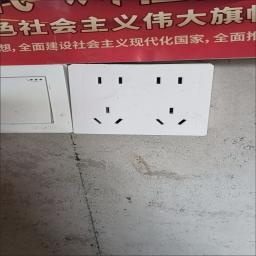outlet: (66, 58, 225, 141)
